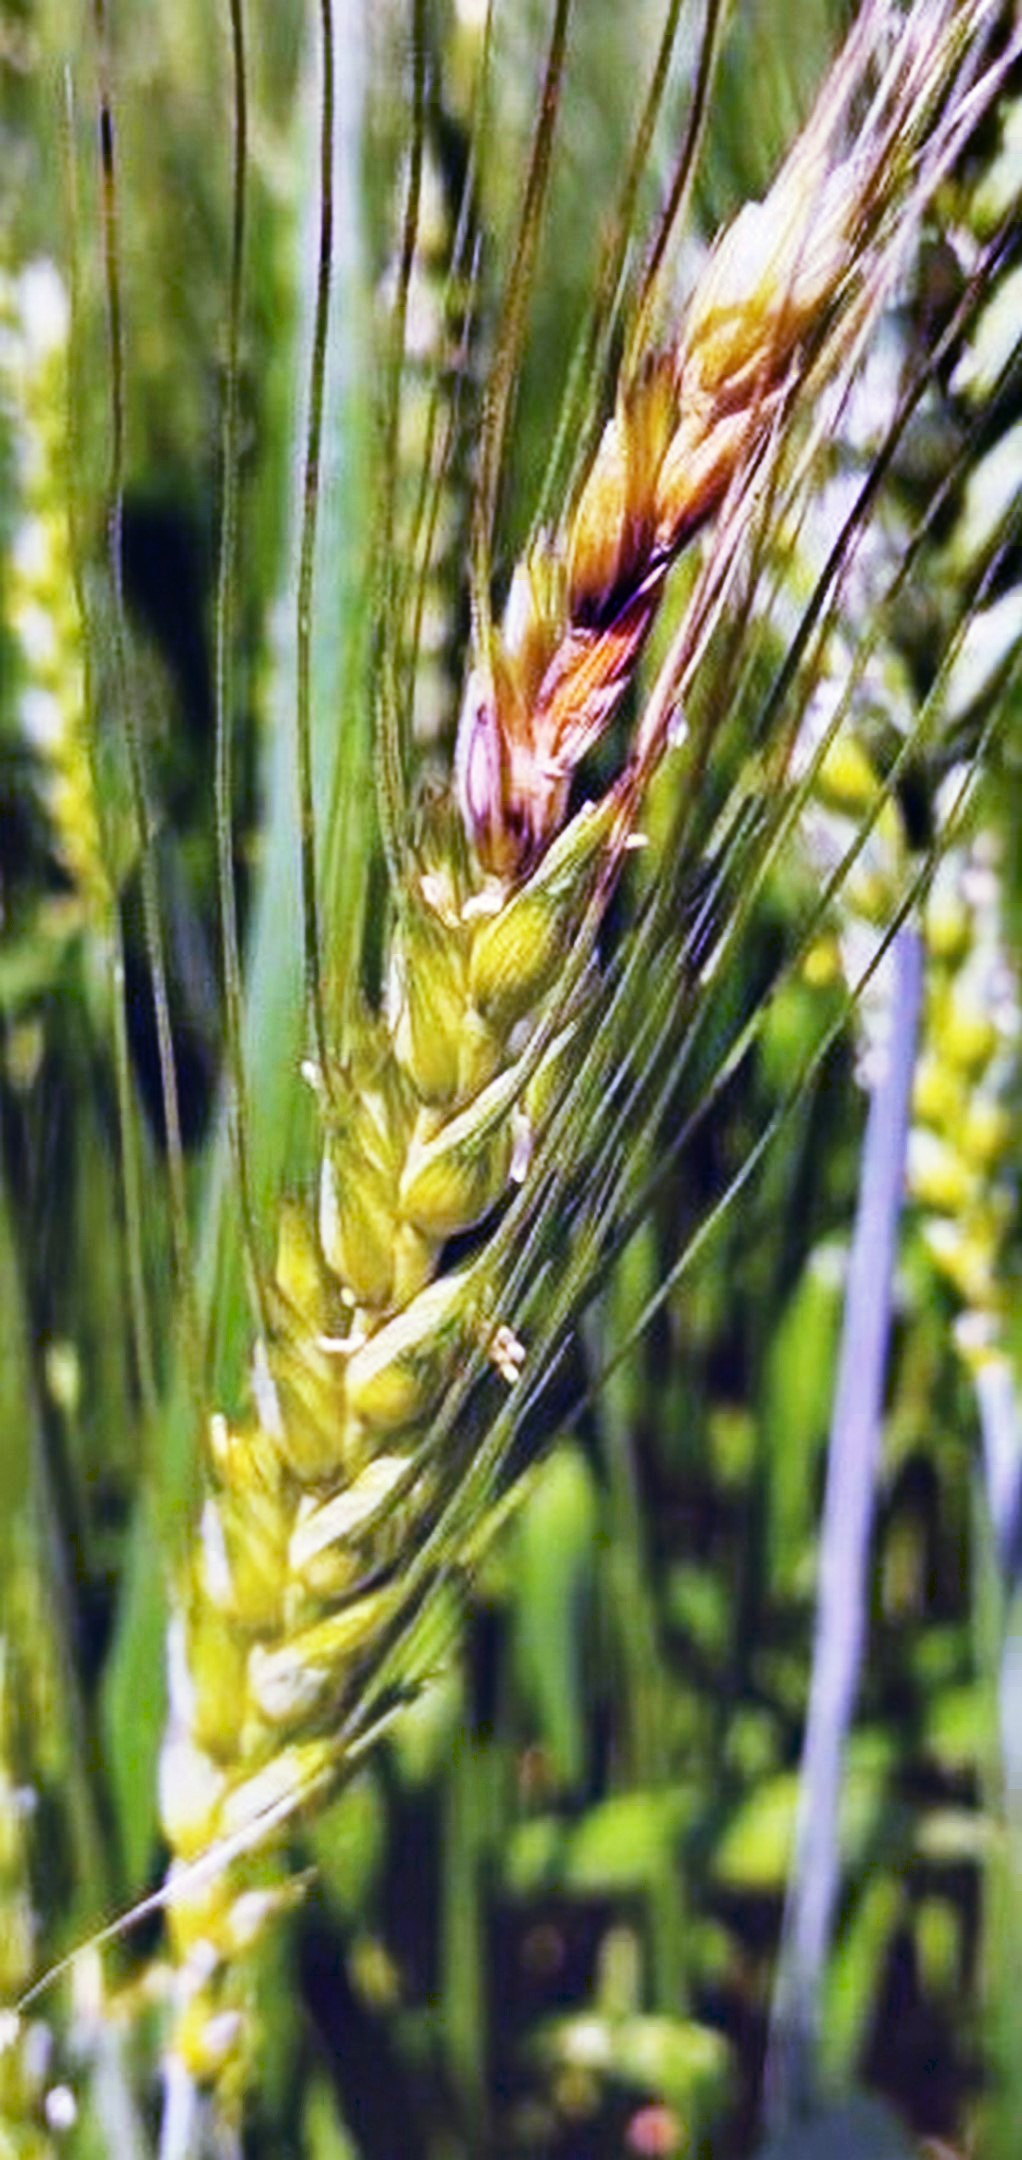Wheat scab: (198, 219, 891, 1818)
